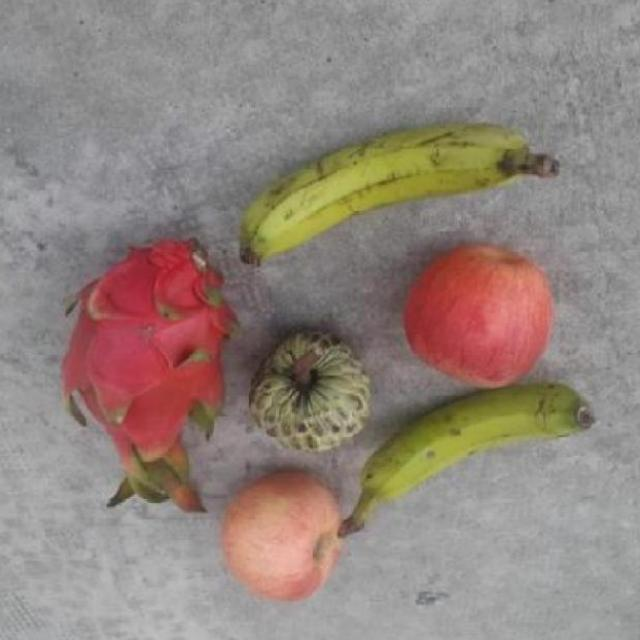apple: (218, 465, 342, 606)
banana: (236, 120, 562, 268), (338, 384, 596, 540)
dragon fruit: (58, 233, 248, 512)
sugar apple: (247, 330, 371, 454)
